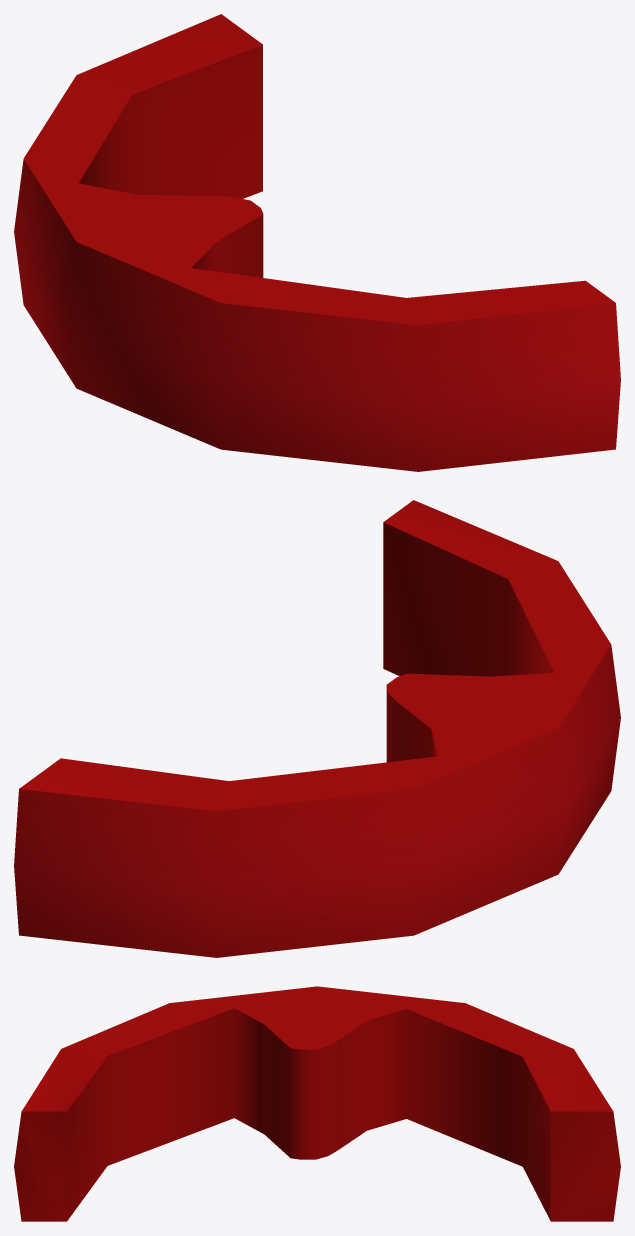
File: Hot_peper_red_slice_half.fbx
The picture shows the model from 3 angles, top to bottom: view 1: azimuth 30°, elevation 25°; view 2: azimuth 150°, elevation 25°; view 3: azimuth 270°, elevation 25°; orthographic projection. The views are drawn at different scales.
Visible parts, largest first — view 1: Hot_peper_red_slice_half; view 2: Hot_peper_red_slice_half; view 3: Hot_peper_red_slice_half.
Part boxes in pixels (x1,y1,x2,y2): Hot_peper_red_slice_half: (14, 14, 620, 471); Hot_peper_red_slice_half: (14, 500, 620, 957); Hot_peper_red_slice_half: (14, 986, 620, 1221).
Bounding box in the file's own units: 18.4 × 36.8 × 7.36.
